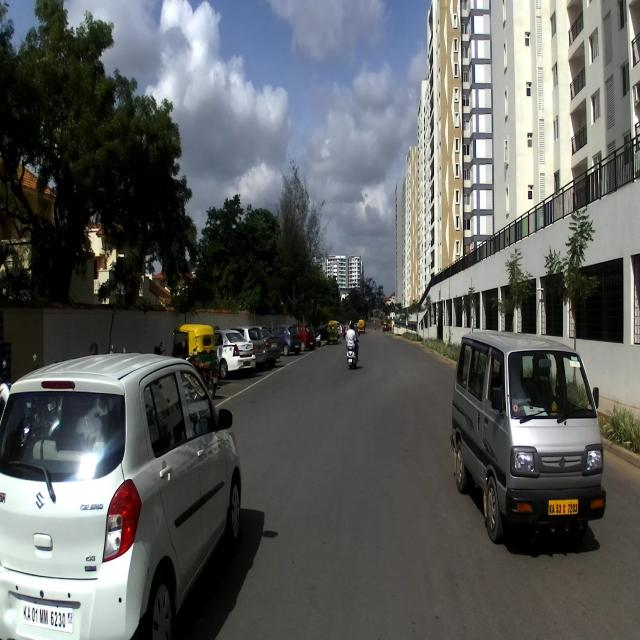Car_Maruti-Suzuki: (0, 351, 241, 639), (452, 332, 608, 550)
